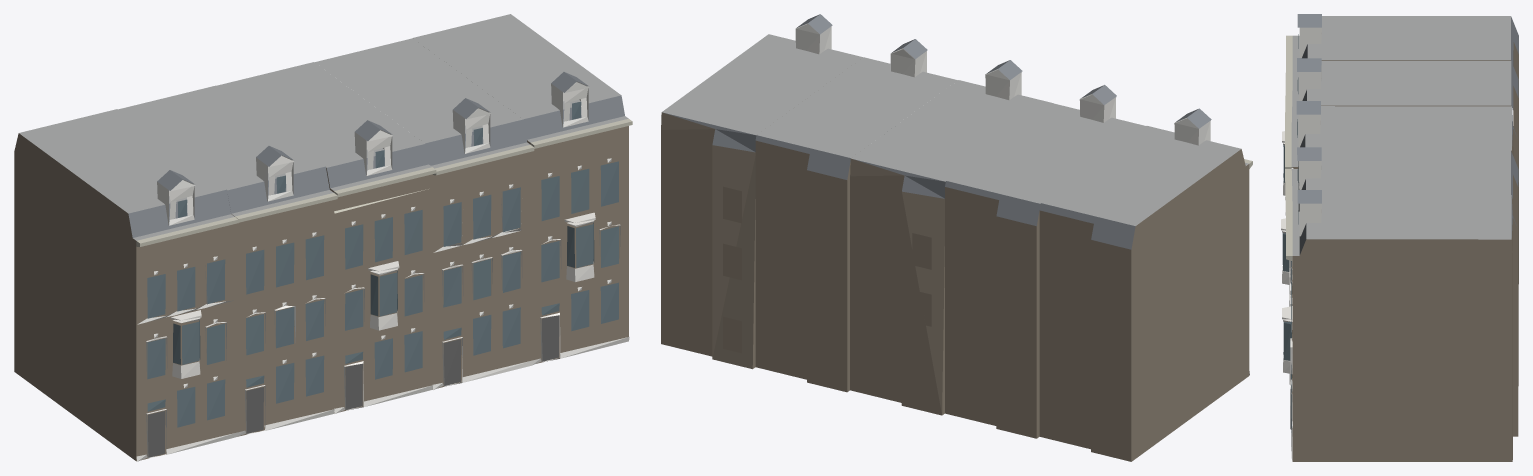
The model's file is chunk-face-tex-1-59-r1.lod2.glb.
3 views of the same model, side by side, from view 1: azimuth 30°, elevation 25°; view 2: azimuth 150°, elevation 25°; view 3: azimuth 270°, elevation 25° (orthographic). The views are drawn at different scales.
Visible parts, largest first — view 1: lod2; view 2: lod2; view 3: lod2.
Part boxes in pixels (x1,y1,x2,y2): lod2: [14, 14, 632, 461]; lod2: [661, 14, 1252, 461]; lod2: [1281, 14, 1518, 461].
Size of the model in its own units: 30.53 by 15.99 by 13.81.
